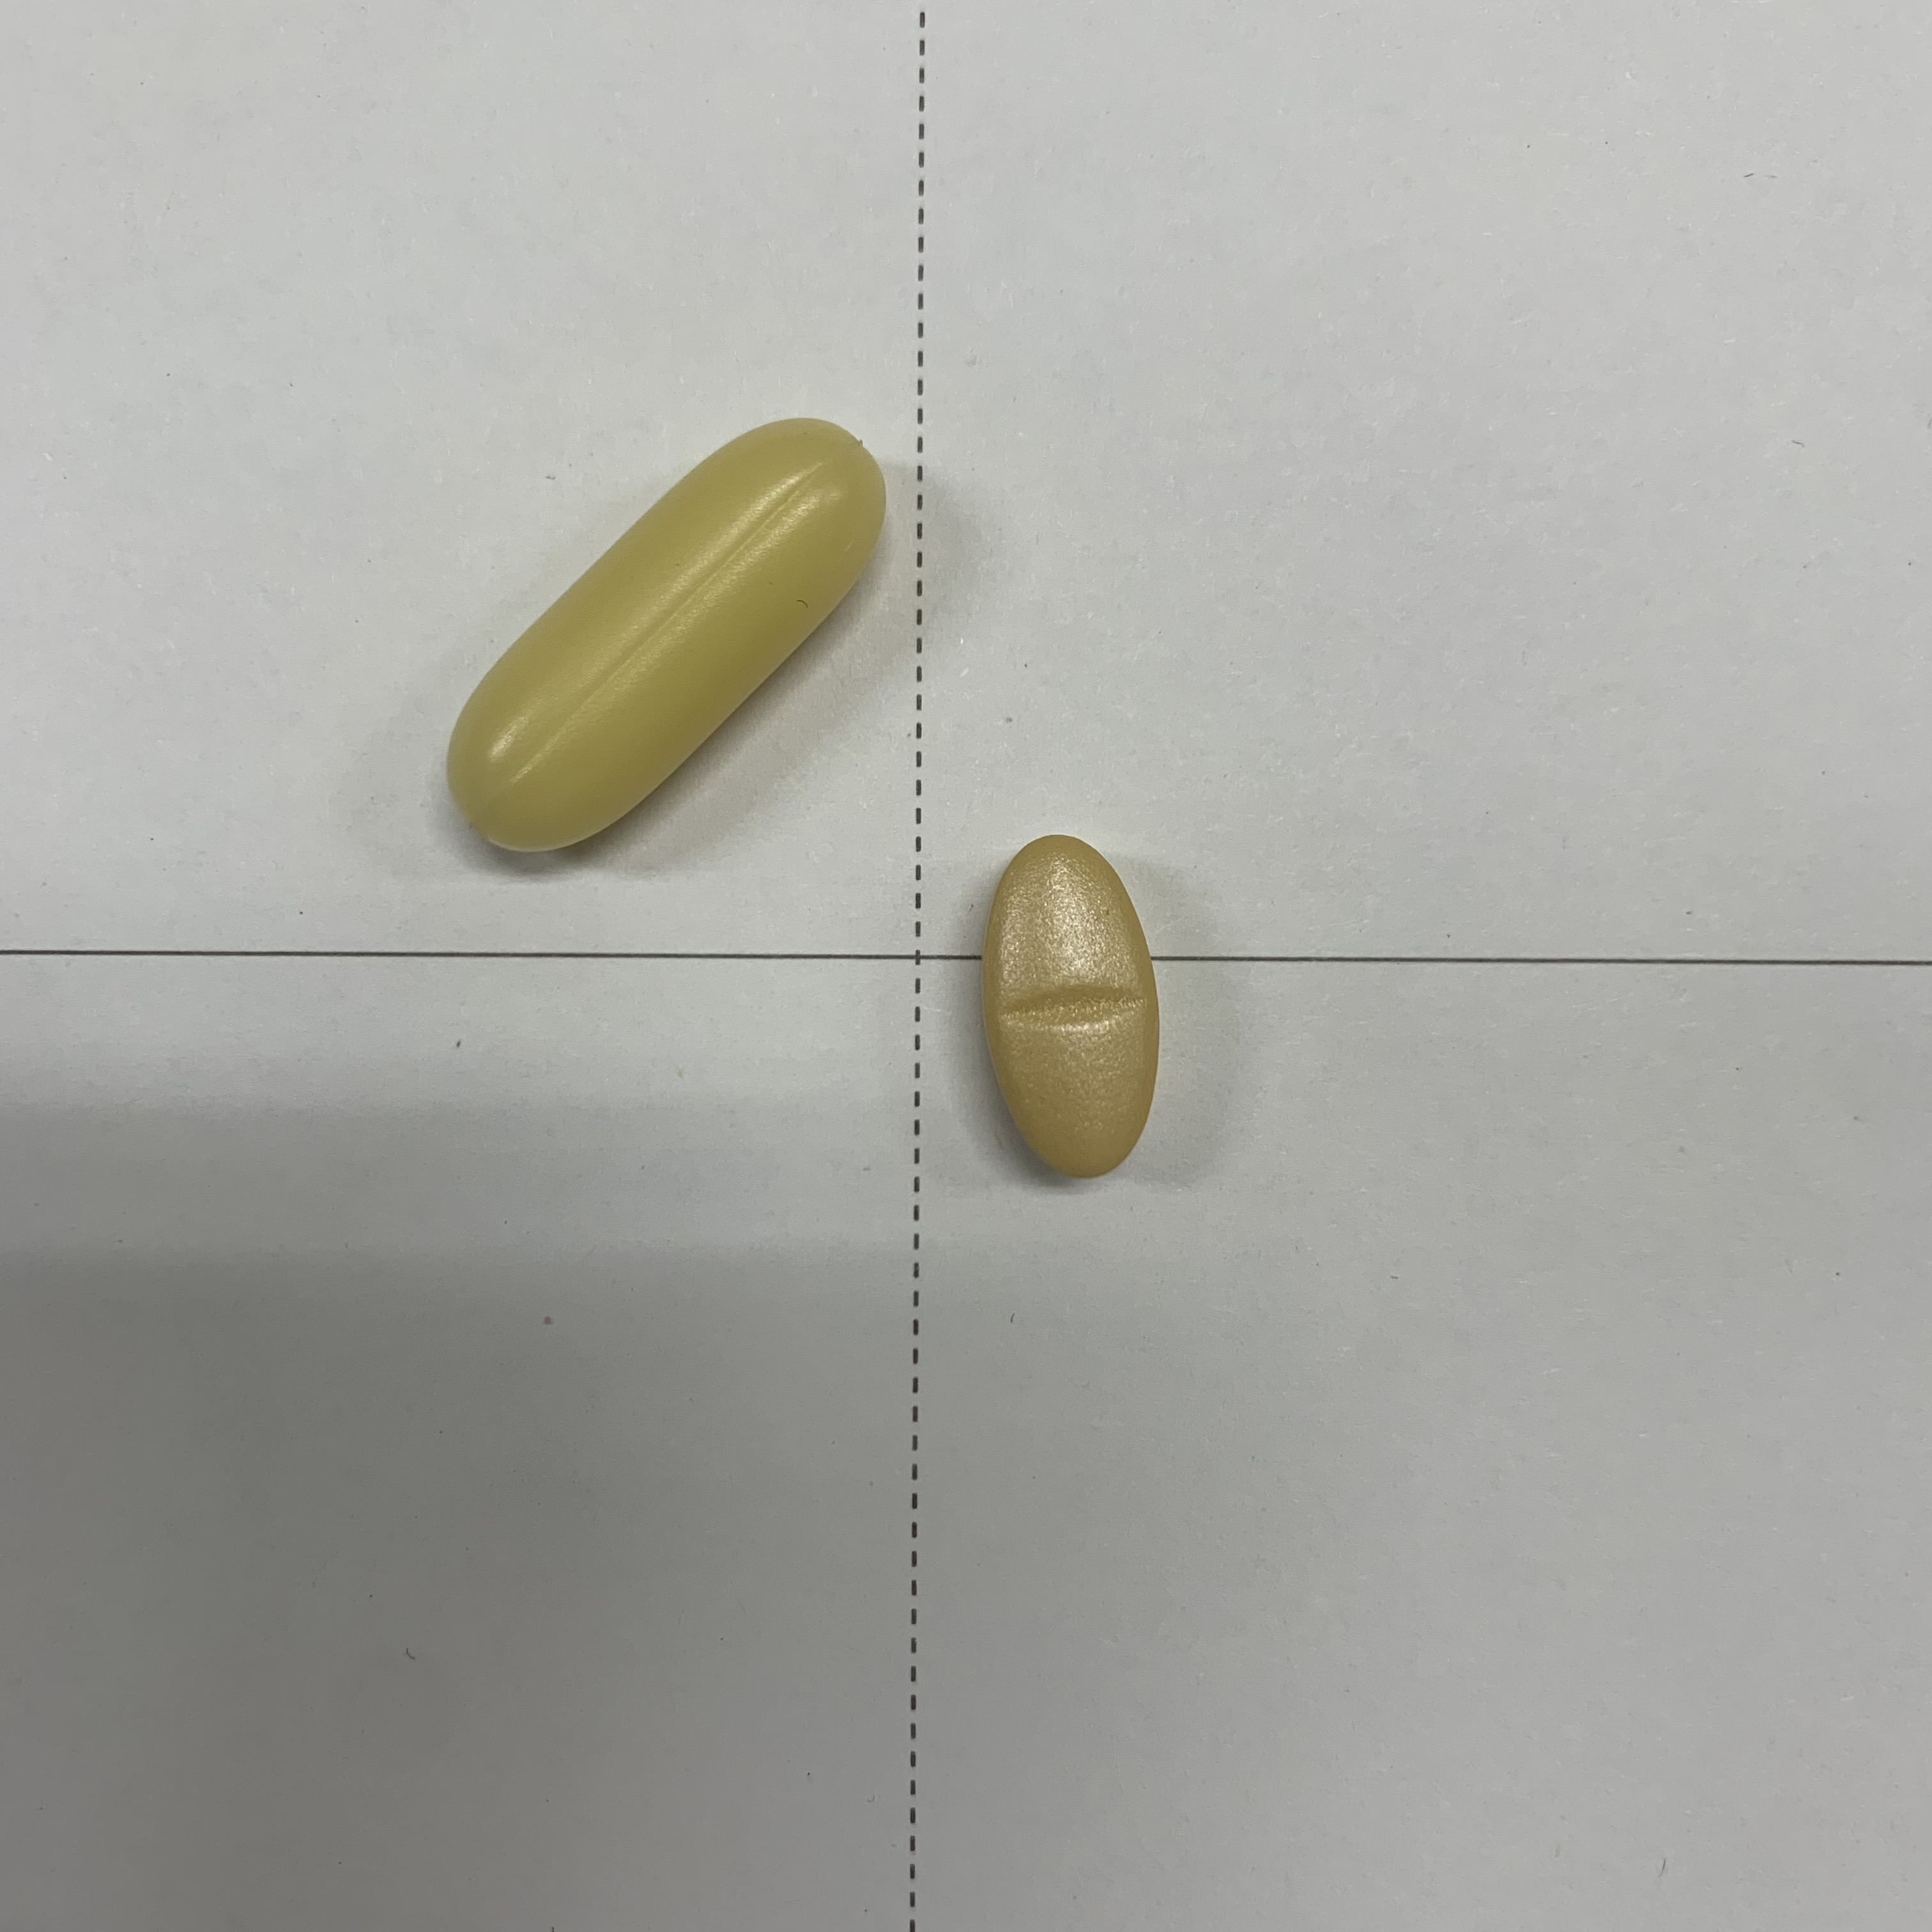oval_drug: (945, 833, 1169, 1210)
rec_drug: (430, 407, 895, 869)
